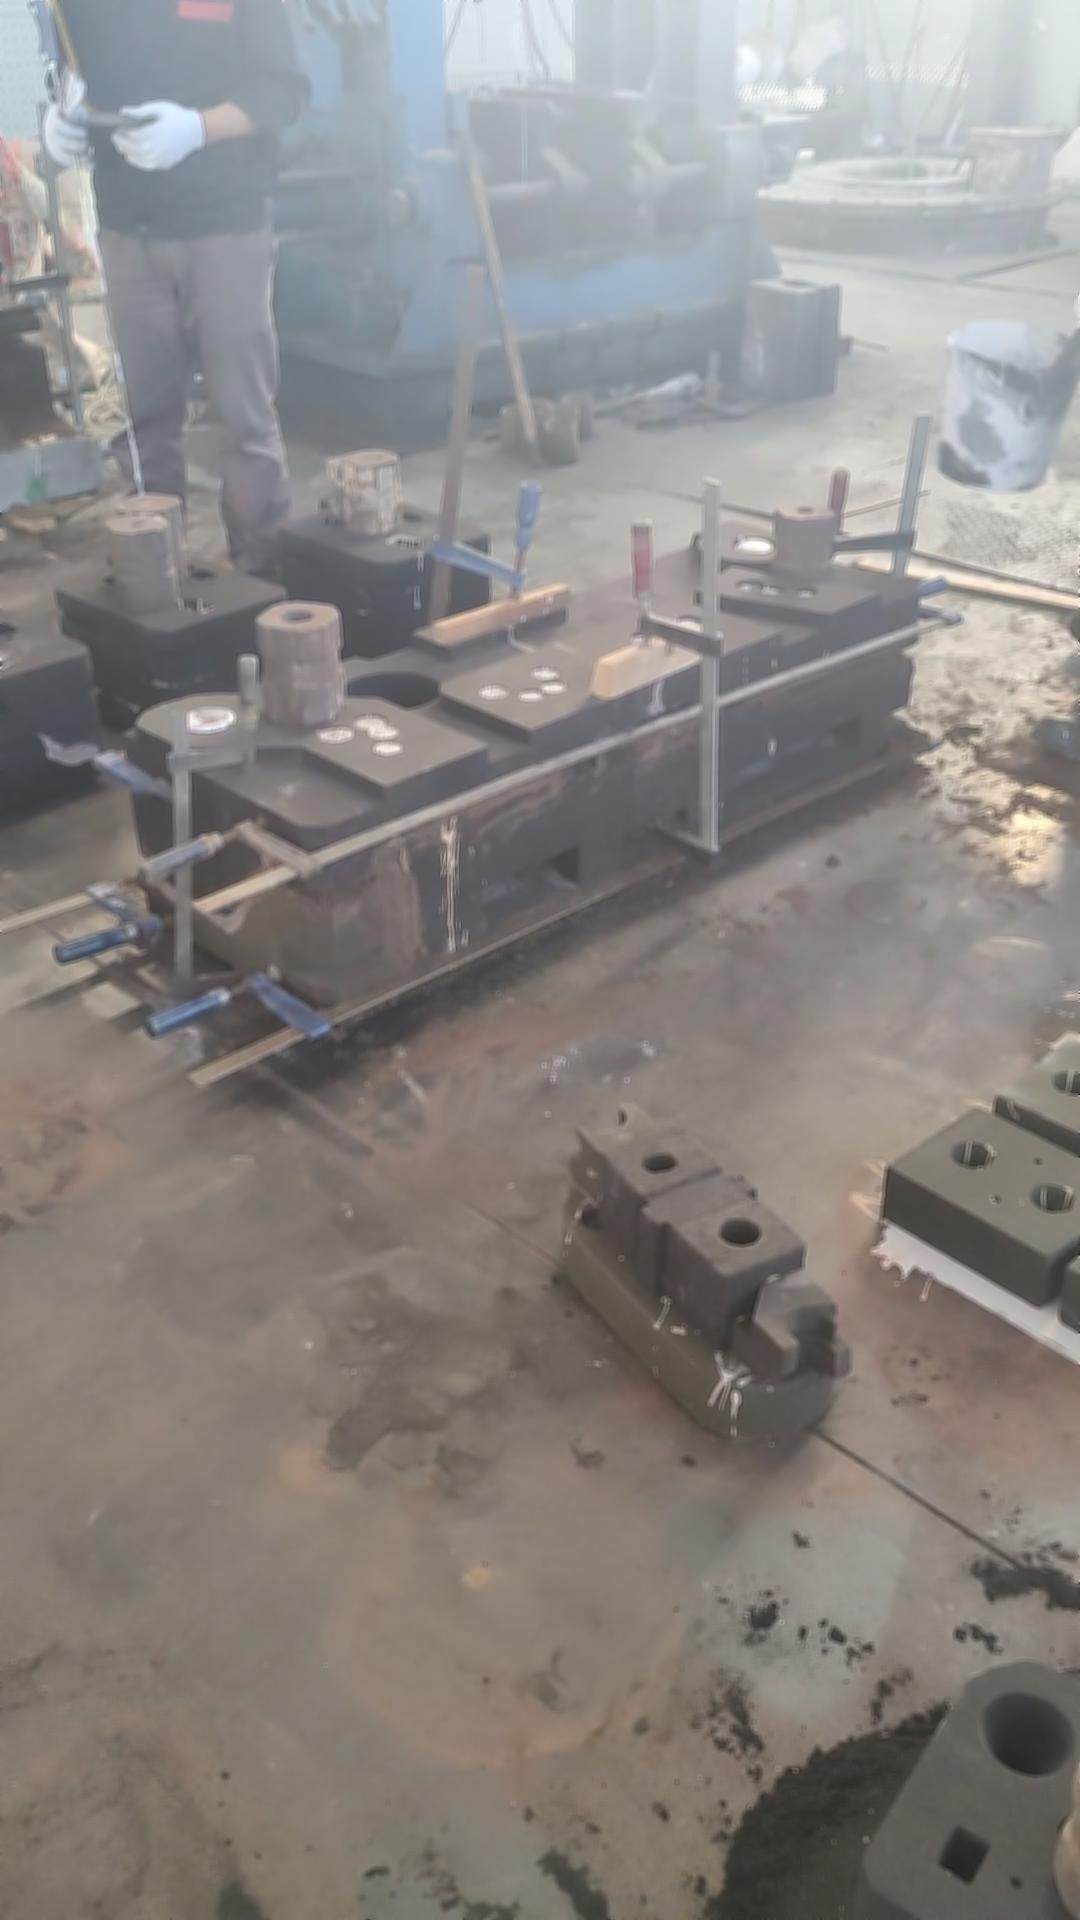pouring hole: (982, 1691, 1076, 1778), (183, 705, 239, 735), (1031, 1180, 1076, 1213), (951, 1138, 996, 1170), (731, 535, 777, 556), (129, 520, 169, 542), (345, 483, 381, 504), (1051, 1069, 1080, 1095), (542, 417, 576, 431), (558, 392, 591, 404), (521, 398, 549, 410), (547, 404, 580, 413), (525, 413, 549, 425), (500, 405, 526, 415)
